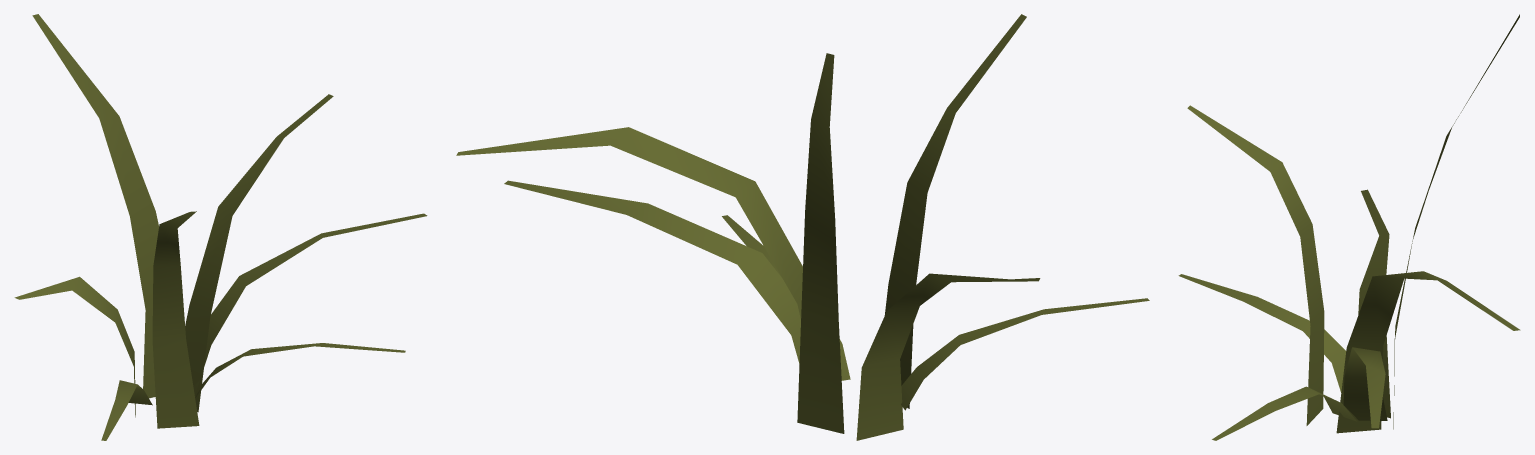
Rendered from TallGrass.fbx.
3 renders of one model, left to right at view 1: azimuth 30°, elevation 25°; view 2: azimuth 150°, elevation 25°; view 3: azimuth 270°, elevation 25°, orthographic. The views are drawn at different scales.
Visible parts, largest first — view 1: Tall_Grass_Blade3, Tall_Grass_Blade, Tall_Grass_Blade2, Tall_Grass_Blade4, Tall_Grass_Blade1, Tall_Grass_Blade6, Tall_Grass_Blade5; view 2: Tall_Grass_Blade, Tall_Grass_Blade2, Tall_Grass_Blade1, Tall_Grass_Blade4, Tall_Grass_Blade3, Tall_Grass_Blade6, Tall_Grass_Blade5; view 3: Tall_Grass_Blade3, Tall_Grass_Blade2, Tall_Grass_Blade4, Tall_Grass_Blade6, Tall_Grass_Blade1, Tall_Grass_Blade5, Tall_Grass_Blade.
Boxes of the visible parts, box(x1,y1,x2,y2) form: Tall_Grass_Blade3: box(152, 211, 199, 428); Tall_Grass_Blade: box(32, 14, 158, 398); Tall_Grass_Blade2: box(185, 94, 333, 412); Tall_Grass_Blade4: box(193, 213, 427, 395); Tall_Grass_Blade1: box(14, 276, 135, 417); Tall_Grass_Blade6: box(101, 380, 152, 440); Tall_Grass_Blade5: box(195, 343, 405, 397); Tall_Grass_Blade: box(797, 53, 844, 433); Tall_Grass_Blade2: box(456, 127, 802, 318); Tall_Grass_Blade1: box(856, 273, 1040, 440); Tall_Grass_Blade4: box(504, 180, 800, 363); Tall_Grass_Blade3: box(884, 14, 1026, 408); Tall_Grass_Blade6: box(901, 298, 1149, 410); Tall_Grass_Blade5: box(722, 215, 850, 380); Tall_Grass_Blade3: box(1187, 105, 1324, 425); Tall_Grass_Blade2: box(1336, 271, 1520, 433); Tall_Grass_Blade4: box(1343, 347, 1387, 428); Tall_Grass_Blade6: box(1178, 274, 1346, 392); Tall_Grass_Blade1: box(1358, 189, 1390, 418); Tall_Grass_Blade5: box(1212, 386, 1357, 440); Tall_Grass_Blade: box(1393, 14, 1519, 429).
Size of the model in its own units: 1.94 by 1.6 by 1.3.
